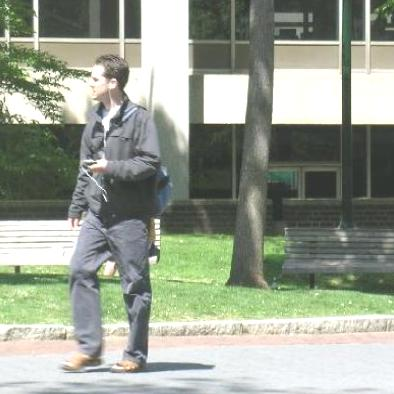ped: (59, 57, 160, 373)
